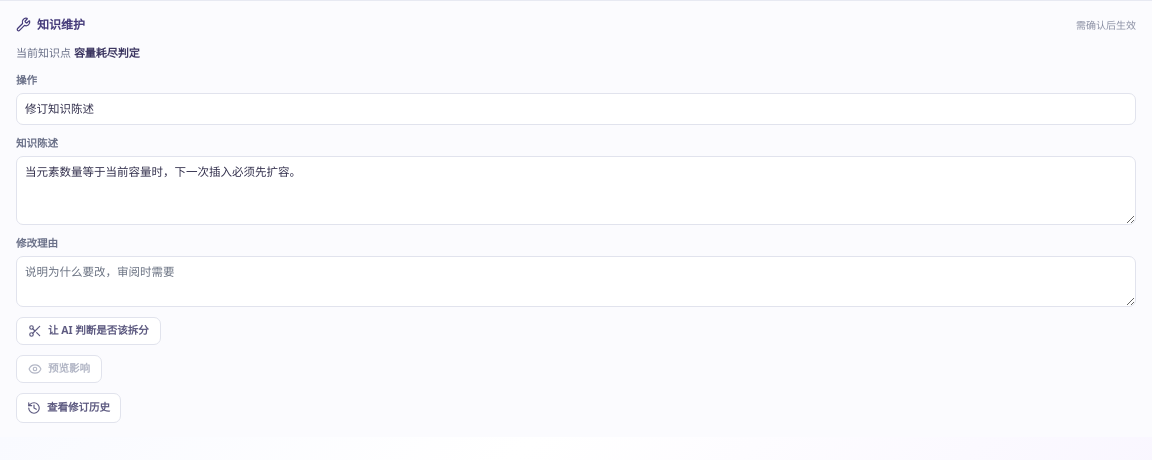
Test: 影响面明细与修订历史 › 没有修订记录时给出明确空状态
Click the button "查看修订历史": click(68, 408) [16, 392, 121, 422]
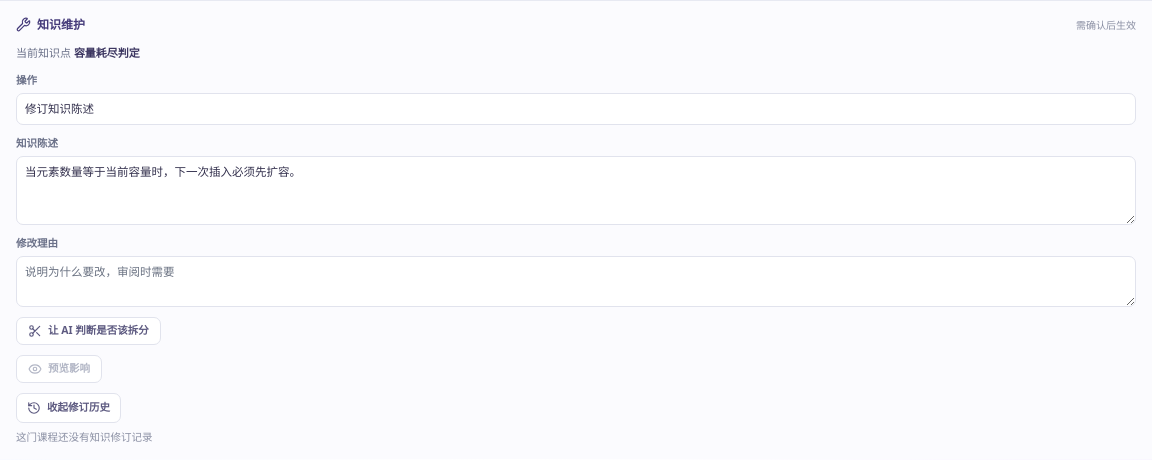
Check: the text "还没有知识修订记录" is shown, box [16, 430, 152, 444]
